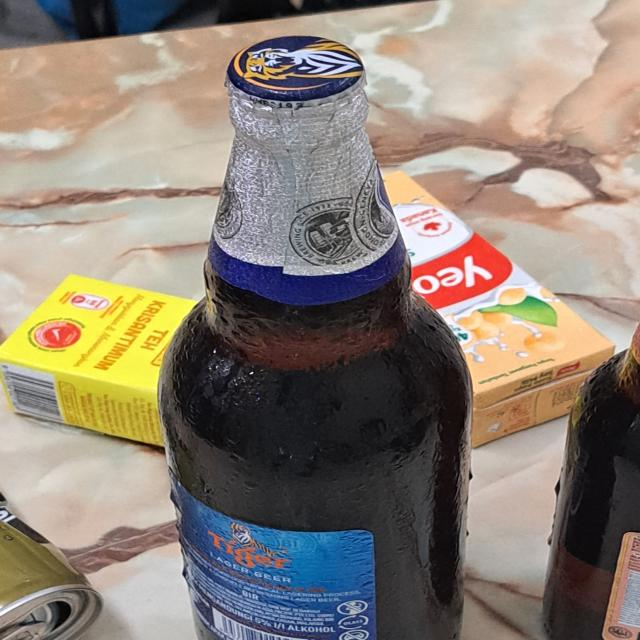can: (0, 482, 105, 640)
drink carton: (377, 168, 619, 447), (0, 273, 204, 446)
glass bottle: (155, 36, 473, 640), (543, 321, 640, 640)
pop tab: (0, 621, 52, 640)
